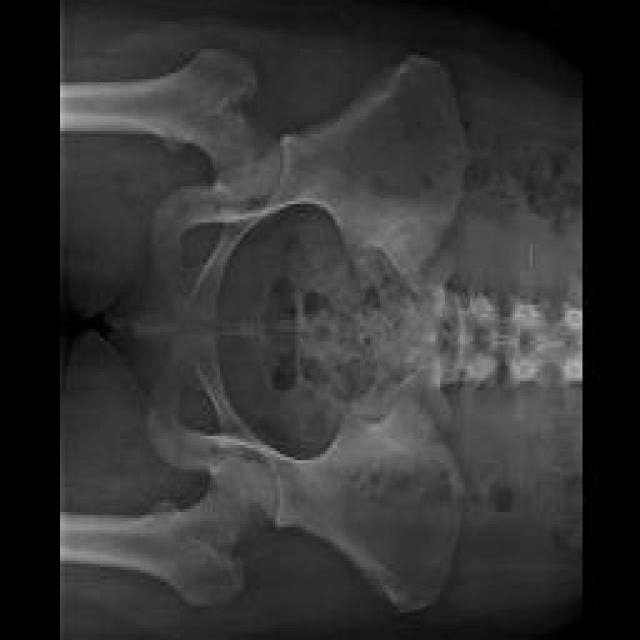normal: (64, 50, 579, 610)
